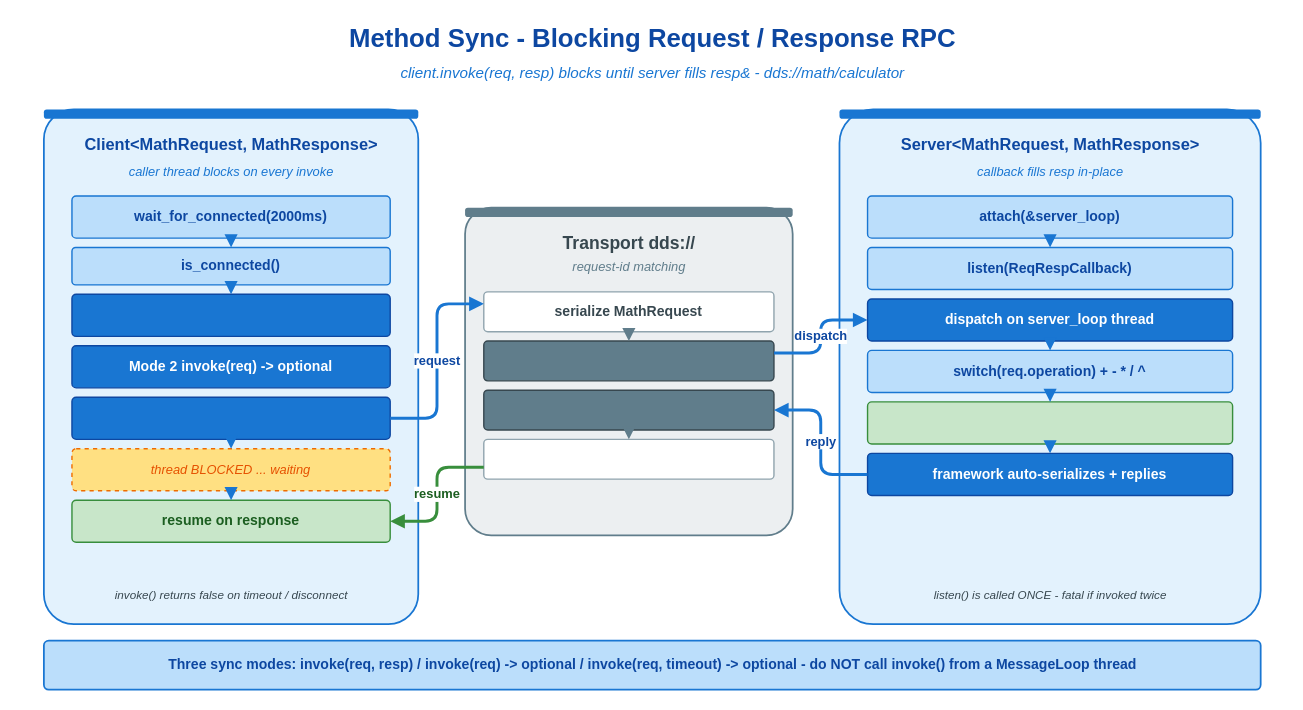
The diagram is 1303 pixels wide and 710 high, and some of its shapes have lost their labels. The shapes that lost their labels are listed below. From the top down, each one's centre as x and y in pixels, then its label:
At [230,314]: "Mode 1 invoke(req, resp)".
At [628,360]: "route request to server".
At [230,417]: "Mode 3 invoke(req, 1000ms) -> optional".
At [628,409]: "route response back".
At [1049,422]: "resp.result = ... resp.success = true".
At [628,458]: "deserialize MathResponse".
